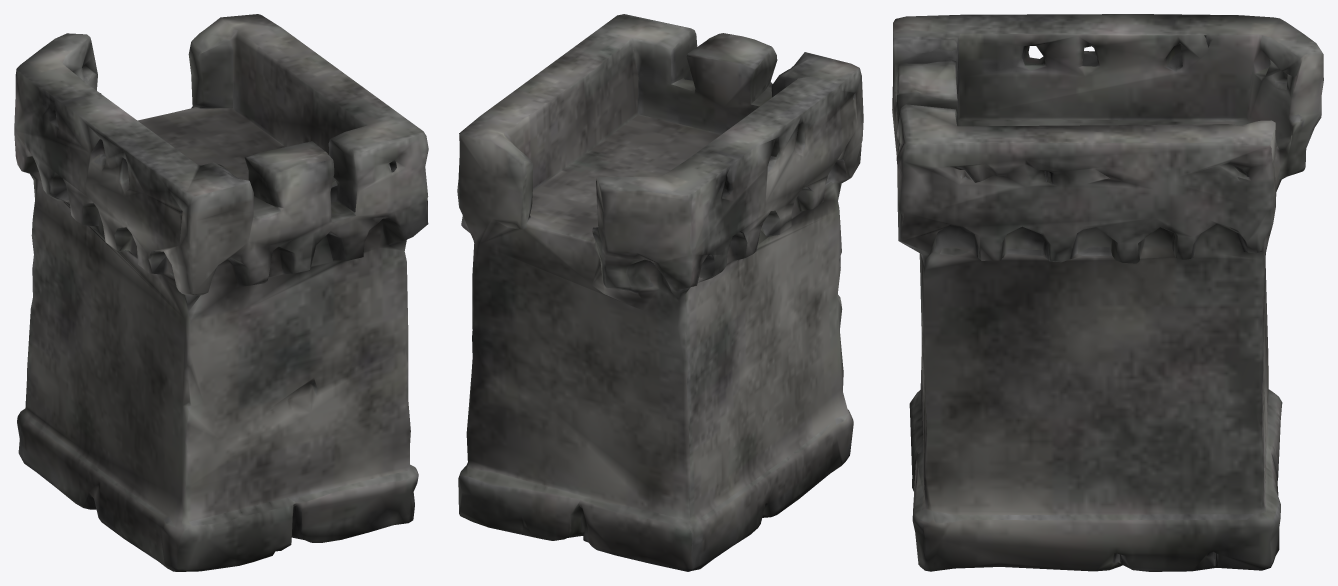
The model's file is ancient-granite-battlement-wall-v001.glb.
3 views of the same model, side by side, from view 1: azimuth 30°, elevation 25°; view 2: azimuth 150°, elevation 25°; view 3: azimuth 270°, elevation 25° (orthographic). The views are drawn at different scales.
Visible parts, largest first — view 1: ancient-granite-battlement-wall; view 2: ancient-granite-battlement-wall; view 3: ancient-granite-battlement-wall.
Boxes of the visible parts, <box> form: ancient-granite-battlement-wall: <box>14,14,428,571</box>; ancient-granite-battlement-wall: <box>457,14,863,571</box>; ancient-granite-battlement-wall: <box>892,14,1323,571</box>.
Size of the model in its own units: 1.25 by 1.9 by 1.71.
1 material, 1 textured.
